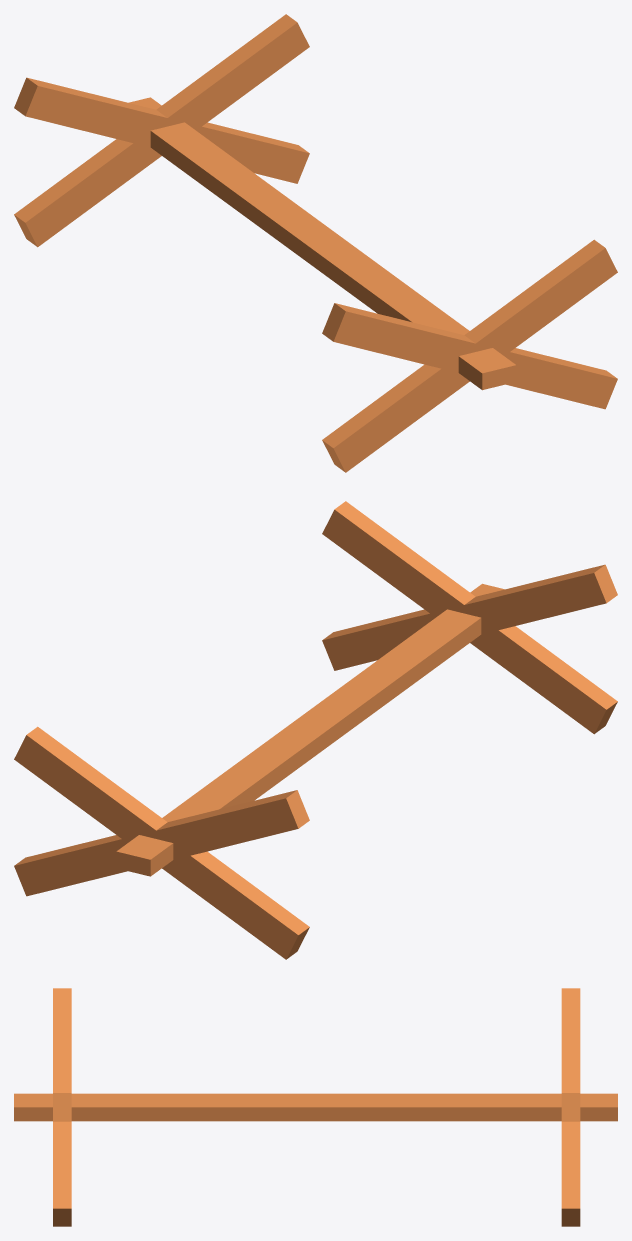
The model's file is bedrollFrame.fbx.
The picture shows the model from 3 angles, top to bottom: view 1: azimuth 30°, elevation 25°; view 2: azimuth 150°, elevation 25°; view 3: azimuth 270°, elevation 25°; orthographic projection. The views are drawn at different scales.
Parts seen in each view (by area): view 1: bedrollFrame; view 2: bedrollFrame; view 3: bedrollFrame.
Boxes of the visible parts, x1,y1,x2,y2 form: bedrollFrame: [14, 14, 617, 472]; bedrollFrame: [14, 501, 617, 959]; bedrollFrame: [14, 988, 617, 1226].
Bounding box in the file's own units: 2.72 × 1.48 × 6.06.
